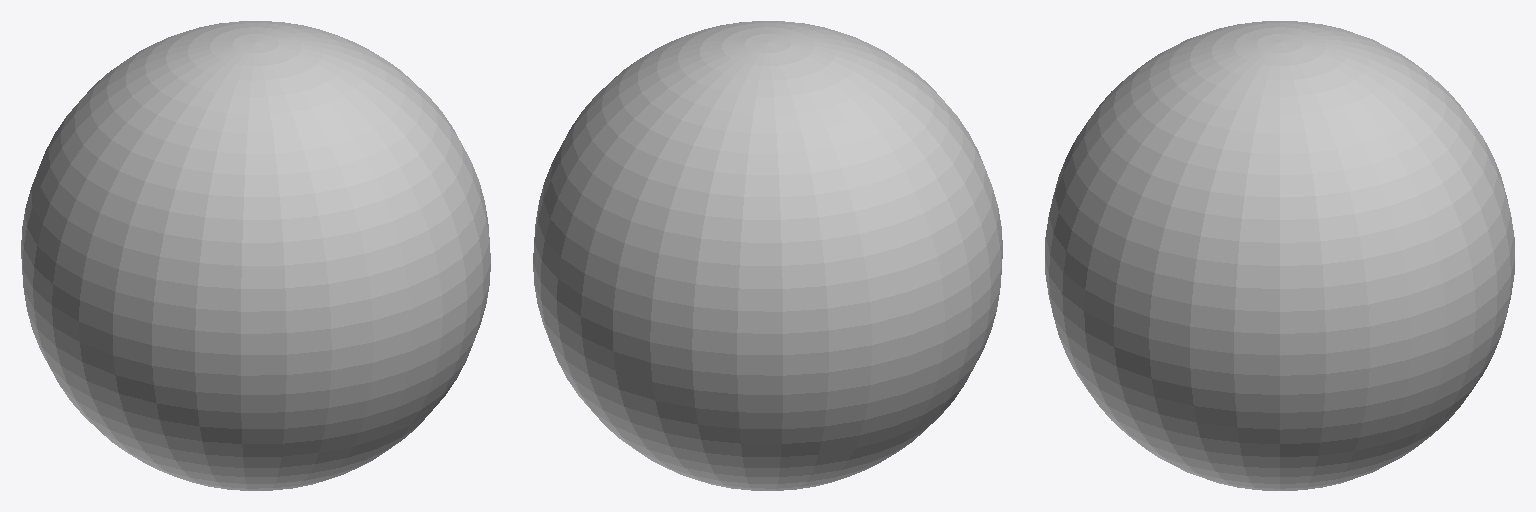
Rendered from boje_1.obj.
The picture shows the model from 3 angles: view 1: azimuth 30°, elevation 25°; view 2: azimuth 150°, elevation 25°; view 3: azimuth 270°, elevation 25°; orthographic projection.
Size of the model in its own units: 1 by 1 by 1.